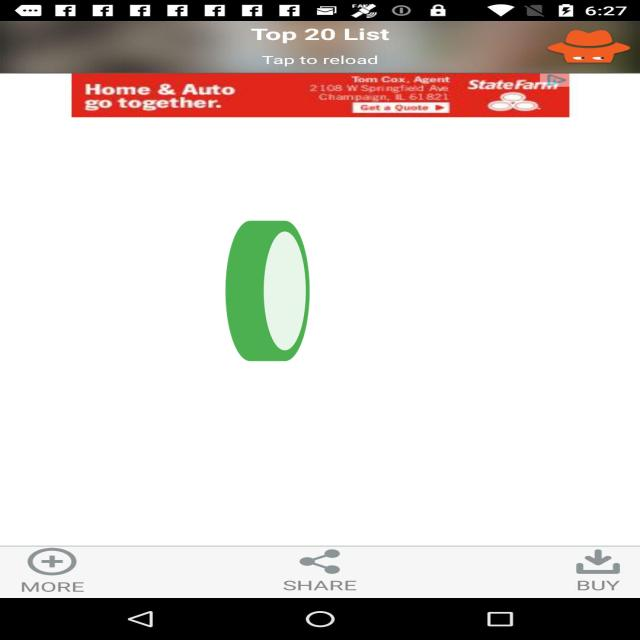social proof: (222, 167, 314, 426)
